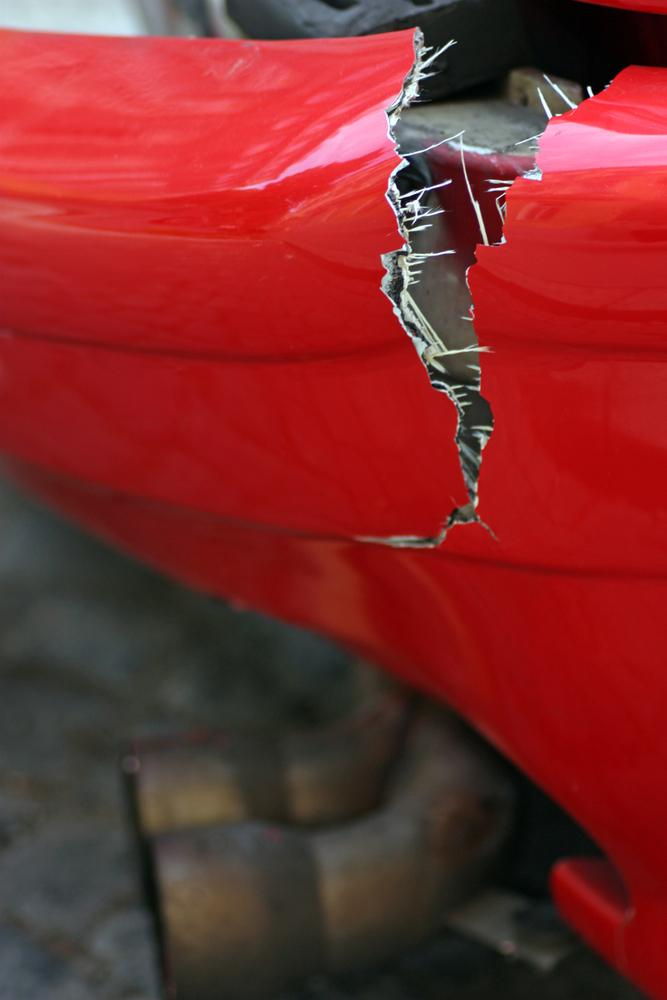crack: (348, 29, 633, 555)
